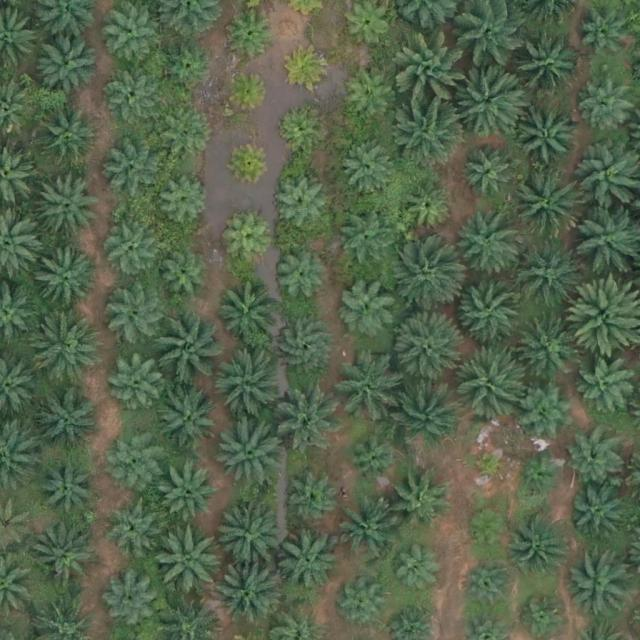Healthy: (390, 312, 461, 383), (30, 316, 101, 387), (510, 170, 581, 240), (451, 212, 521, 283), (455, 274, 525, 345), (389, 244, 459, 315), (391, 376, 461, 447), (212, 417, 282, 488), (214, 352, 284, 423), (152, 525, 222, 596), (510, 33, 580, 104), (399, 38, 469, 109), (513, 240, 583, 310), (454, 348, 524, 418), (272, 380, 342, 450), (215, 559, 285, 629), (210, 499, 280, 569), (150, 314, 220, 384), (30, 248, 100, 318), (455, 65, 525, 135), (395, 98, 465, 168), (515, 316, 578, 379), (337, 275, 400, 338), (155, 387, 218, 450), (517, 106, 580, 169), (37, 32, 100, 95), (517, 379, 579, 442), (387, 471, 449, 534), (333, 502, 395, 565), (333, 359, 395, 422), (277, 532, 339, 595), (216, 282, 278, 345), (106, 285, 168, 348), (37, 173, 99, 236), (37, 390, 99, 453), (33, 531, 95, 594), (37, 105, 99, 168), (104, 138, 166, 201), (511, 513, 573, 576), (569, 553, 631, 615), (274, 318, 336, 380), (568, 487, 623, 543), (337, 212, 392, 268), (567, 433, 622, 488), (463, 559, 518, 614), (400, 181, 455, 236), (346, 433, 401, 488), (272, 177, 327, 232), (163, 470, 218, 525), (102, 575, 157, 630), (102, 499, 157, 554), (101, 222, 156, 277), (161, 39, 216, 94), (161, 113, 216, 168), (578, 15, 633, 70), (463, 147, 518, 202), (343, 71, 398, 126), (104, 12, 159, 67), (105, 69, 160, 124), (578, 358, 632, 413), (273, 249, 327, 304), (287, 476, 341, 531), (158, 174, 212, 229), (156, 252, 210, 307), (108, 429, 162, 484), (110, 357, 164, 412), (42, 461, 96, 516), (582, 81, 636, 136), (342, 139, 396, 194)
Small: (276, 105, 323, 153), (391, 548, 438, 596), (516, 453, 563, 501), (229, 9, 276, 56), (521, 592, 568, 639), (341, 583, 388, 630), (466, 508, 513, 555), (470, 446, 509, 485)
Yellow: (227, 138, 274, 186), (286, 45, 333, 93), (224, 218, 271, 265), (224, 70, 271, 117)
